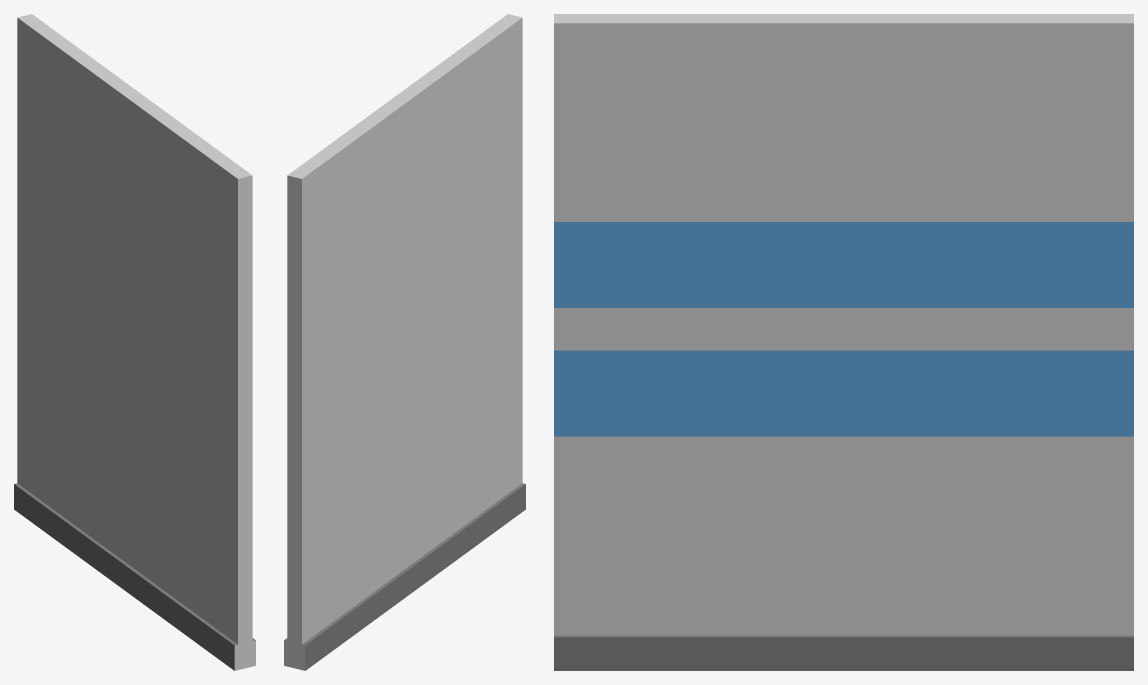
Rendered from Wall 1.fbx.
3 renders of one model, left to right at view 1: azimuth 30°, elevation 25°; view 2: azimuth 150°, elevation 25°; view 3: azimuth 270°, elevation 25°, orthographic. The views are drawn at different scales.
Visible parts, largest first — view 1: Cube.023; view 2: Cube.023; view 3: Cube.023.
Part boxes in pixels (x1=…): Cube.023: x1=14, y1=14, x2=255, y2=670; Cube.023: x1=284, y1=14, x2=525, y2=670; Cube.023: x1=554, y1=14, x2=1133, y2=670.
Bounding box in the file's own units: 17.07 × 375 × 306.
